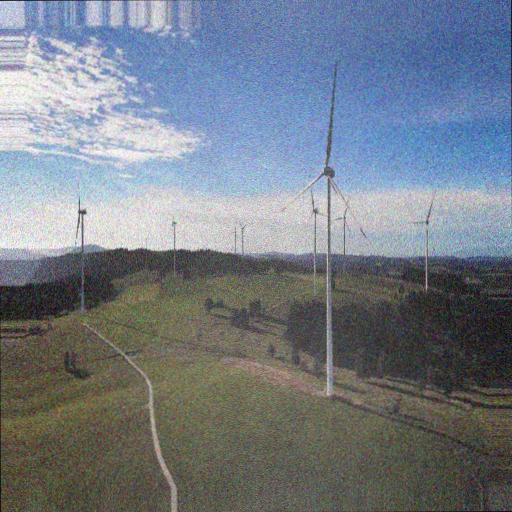wind turbine: (271, 60, 368, 397), (408, 187, 442, 290), (67, 181, 89, 312)
